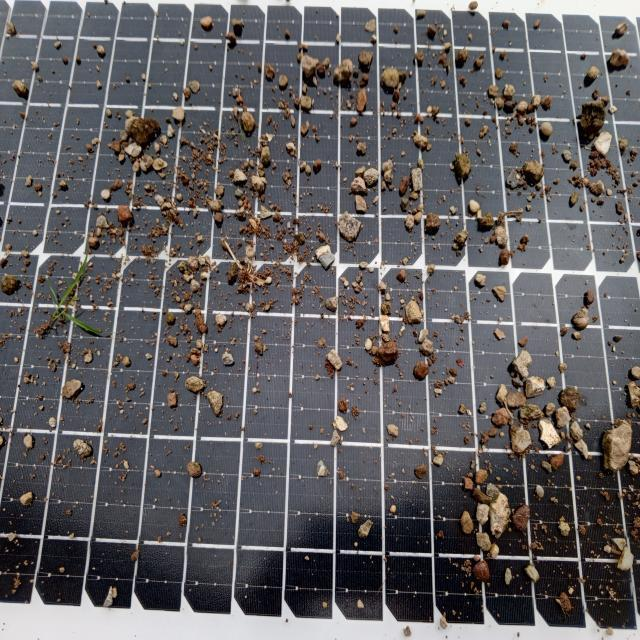Anomaly Solar Panel: (3, 5, 636, 634)
Surface Contaminant: (0, 3, 639, 639)
